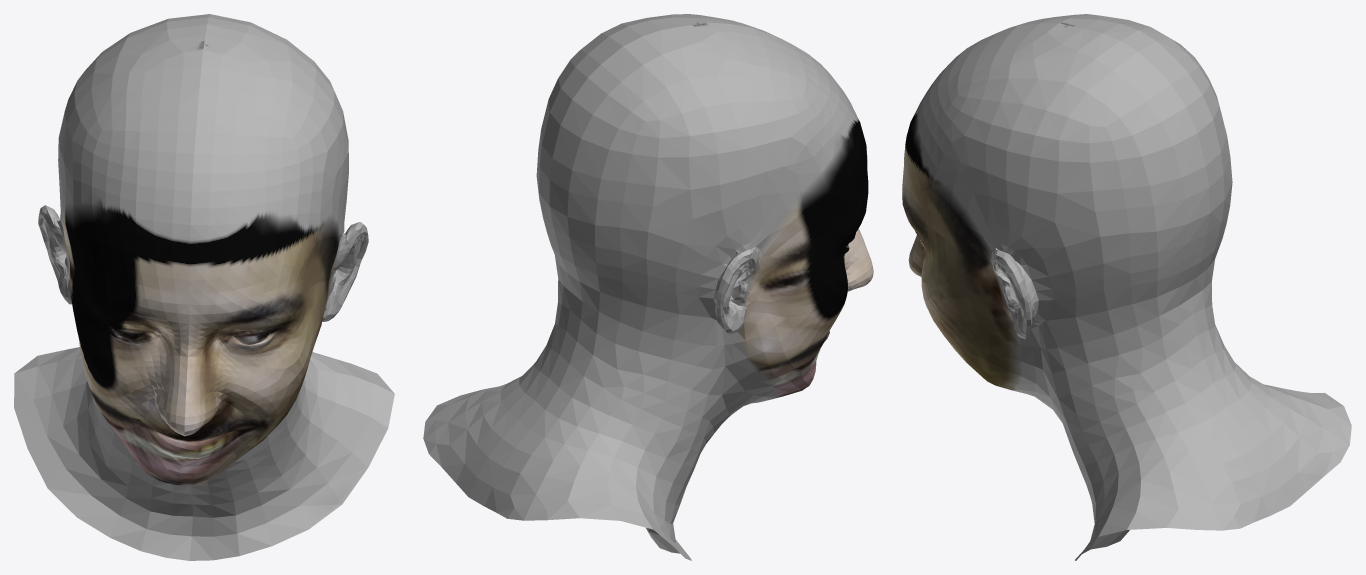
Rendered from ezgif-frame-085.obj.
3 views of the same model, side by side, from view 1: azimuth 30°, elevation 25°; view 2: azimuth 150°, elevation 25°; view 3: azimuth 270°, elevation 25° (orthographic). The views are drawn at different scales.
Bounding box in the file's own units: 0.2286 × 0.3242 × 0.2584.
Materials: 1 (1 with a texture image).
